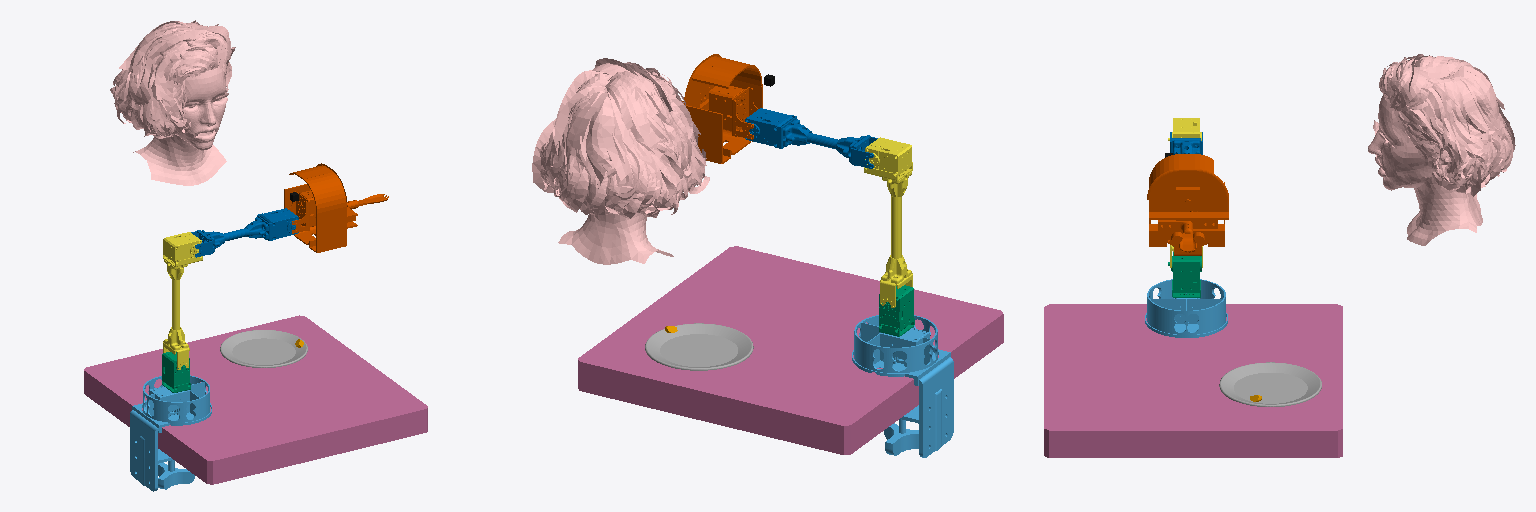
URDF robot description (feedbot):
<?xml version="1.0" ?>
<!-- =================================================================================== -->
<!-- |    This document was autogenerated by xacro from my_robot.urdf.xacro            | -->
<!-- |    EDITING THIS FILE BY HAND IS NOT RECOMMENDED                                 | -->
<!-- =================================================================================== -->
<robot name="feedbot">
  <!-- ABSOLUTE ROOT LINK (must be top-level) -->
  <link name="base_root"/>
  <!-- Fixed joint to real base -->
  <joint name="base_root_to_base" type="fixed">
    <parent link="base_root"/>
    <child link="base"/>
    <origin rpy="0 0 0" xyz="0 0 0"/>
  </joint>
  <link name="base">
    <visual>
      <geometry>
        <mesh filename="package://feedbot_description/meshes/base.stl" scale="0.01 0.01 0.01"/>
      </geometry>
    </visual>
    <collision>
      <geometry>
        <mesh filename="package://feedbot_description/meshes/base.stl" scale="0.01 0.01 0.01"/>
      </geometry>
    </collision>
    <inertial>
      <origin rpy="0 0 0" xyz="0 0 0"/>
      <mass value="1.0"/>
      <inertia ixx="0.002" ixy="0" ixz="0" iyy="0.002" iyz="0" izz="0.002"/>
    </inertial>
  </link>
  <!-- base → link1 -->
  <joint name="joint1" type="revolute">
    <parent link="base"/>
    <child link="link1"/>
    <origin rpy="0 0 0" xyz="0.0072669 0.00089679 0.152446"/>
    <!--0.009249 -0.000629 0.15276" -->
    <axis xyz="0 0 1"/>
    <!-- rotation around Z -->
    <limit effort="10.0" lower="-3.14" upper="3.14" velocity="2.0"/>
    <dynamics damping="0.01" friction="0.0"/>
  </joint>
  <!-- Joint2: link1 → link2 -->
  <joint name="joint2" type="revolute">
    <parent link="link1"/>
    <child link="link2"/>
    <origin rpy="0 0 0" xyz="0.000247 0.0211189 0.04221"/>
    <!-- 0.0000924 -0.021915 0.04024 -->
    <axis xyz="0 1 0"/>
    <!-- up-down rotation -->
    <limit effort="1.0" lower="-3.14" upper="3.14" velocity="2.0"/>
    <dynamics damping="0.01" friction="0.0"/>
  </joint>
  <!-- Joint3: link2 → link3 -->
  <joint name="joint3" type="revolute">
    <parent link="link2"/>
    <child link="link3"/>
    <origin rpy="0 0 0" xyz="0.0225822 -0.04319 0.18139"/>
    <!--0.022992 -0.000915 0.18334 -->
    <axis xyz="0 1 0"/>
    <!-- up-down rotation -->
    <limit effort="5.0" lower="-2.0944" upper="1.309" velocity="1.0"/>
    <dynamics damping="0.01" friction="0.0"/>
  </joint>
  <!-- Joint4: link3 → feeder_head -->
  <joint name="joint4" type="revolute">
    <parent link="link3"/>
    <child link="feeder_head"/>
    <origin rpy="0 0 0" xyz="0.164298 -0.00024 0.00006"/>
    <!--0.162176 0.001804 0.00004 -->
    <axis xyz="0 1 0"/>
    <!-- up-down rotation -->
    <limit effort="2.0" lower="-1.5708" upper="2.00713" velocity="1.0"/>
    <dynamics damping="0.01" friction="0.0"/>
  </joint>
  <!-- Link1 -->
  <link name="link1">
    <visual>
      <geometry>
        <mesh filename="package://feedbot_description/meshes/link1.stl" scale="0.01 0.01 0.01"/>
      </geometry>
    </visual>
    <collision>
      <geometry>
        <mesh filename="package://feedbot_description/meshes/link1.stl" scale="0.01 0.01 0.01"/>
      </geometry>
    </collision>
    <inertial>
      <mass value="0.25"/>
      <origin rpy="0 0 0" xyz="0 0 0"/>
      <inertia ixx="0.005" ixy="0" ixz="0" iyy="0.005" iyz="0" izz="0.005"/>
    </inertial>
  </link>
  <link name="link2">
    <visual>
      <geometry>
        <mesh filename="package://feedbot_description/meshes/link2.stl" scale="0.01 0.01 0.01"/>
      </geometry>
    </visual>
    <collision>
      <geometry>
        <mesh filename="package://feedbot_description/meshes/link2.stl" scale="0.01 0.01 0.01"/>
      </geometry>
    </collision>
    <inertial>
      <mass value="0.2"/>
      <inertia ixx="0.001" ixy="0" ixz="0" iyy="0.001" iyz="0" izz="0.001"/>
    </inertial>
  </link>
  <!-- Link3 -->
  <link name="link3">
    <visual>
      <origin rpy="0 0 0" xyz="0 0 0"/>
      <geometry>
        <mesh filename="package://feedbot_description/meshes/link3.stl" scale="0.01 0.01 0.01"/>
      </geometry>
    </visual>
    <collision>
      <origin rpy="0 0 0" xyz="0 0 0"/>
      <geometry>
        <mesh filename="package://feedbot_description/meshes/link3.stl" scale="0.01 0.01 0.01"/>
      </geometry>
    </collision>
    <inertial>
      <mass value="0.2"/>
      <inertia ixx="0.001" ixy="0" ixz="0" iyy="0.001" iyz="0" izz="0.001"/>
    </inertial>
  </link>
  <link name="feeder_head">
    <inertial>
      <origin rpy="0 0 0" xyz="0 0 0"/>
      <mass value="0.15"/>
      <!-- slightly heavier for stability -->
      <inertia ixx="0.001" ixy="0" ixz="0" iyy="0.001" iyz="0" izz="0.001"/>
    </inertial>
    <visual>
      <geometry>
        <mesh filename="package://feedbot_description/meshes/feeder_head.stl" scale="0.01 0.01 0.01"/>
      </geometry>
    </visual>
    <collision>
      <geometry>
        <mesh filename="package://feedbot_description/meshes/feeder_head.stl" scale="0.01 0.01 0.01"/>
      </geometry>
    </collision>
  </link>
  <link name="table_link">
    <visual>
      <geometry>
        <mesh filename="package://feedbot_description/meshes/table.stl" scale="0.01 0.01 0.01"/>
      </geometry>
    </visual>
    <collision>
      <geometry>
        <mesh filename="package://feedbot_description/meshes/table.stl" scale="0.01 0.01 0.01"/>
      </geometry>
    </collision>
    <inertial>
      <mass value="5.0"/>
      <inertia ixx="0.1" ixy="0" ixz="0" iyy="0.1" iyz="0" izz="0.1"/>
    </inertial>
  </link>
  <joint name="table_to_world" type="fixed">
    <parent link="base"/>
    <child link="table_link"/>
    <origin rpy="0 0 0" xyz="-0.0007485 0.00018135 0.01118"/>
  </joint>
  <link name="plate_link">
    <visual>
      <geometry>
        <mesh filename="package://feedbot_description/meshes/plate.stl" scale="0.01 0.01 0.01"/>
      </geometry>
    </visual>
    <collision>
      <geometry>
        <mesh filename="package://feedbot_description/meshes/plate.stl" scale="0.01 0.01 0.01"/>
      </geometry>
    </collision>
    <inertial>
      <mass value="0.1"/>
      <inertia ixx="0.001" ixy="0" ixz="0" iyy="0.001" iyz="0" izz="0.001"/>
    </inertial>
  </link>
  <joint name="plate_to_table" type="fixed">
    <parent link="table_link"/>
    <child link="plate_link"/>
    <origin rpy="0 0 0" xyz="0.05 0.00 0.0000"/>
  </joint>
  <link name="apple_link">
    <visual>
      <geometry>
        <mesh filename="package://feedbot_description/meshes/apple.stl" scale="0.01 0.01 0.01"/>
      </geometry>
    </visual>
    <collision>
      <geometry>
        <mesh filename="package://feedbot_description/meshes/apple.stl" scale="0.01 0.01 0.01"/>
      </geometry>
    </collision>
    <inertial>
      <mass value="0.02"/>
      <inertia ixx="0.00001" ixy="0" ixz="0" iyy="0.00001" iyz="0" izz="0.00001"/>
    </inertial>
  </link>
  <joint name="apple_to_plate" type="fixed">
    <parent link="plate_link"/>
    <child link="apple_link"/>
    <origin xyz="0.05 0 0.0010"/>
  </joint>
  <link name="strawberry_link">
    <visual>
      <geometry>
        <mesh filename="package://feedbot_description/meshes/strawberry.stl" scale="0.01 0.01 0.01"/>
      </geometry>
    </visual>
    <collision>
      <geometry>
        <mesh filename="package://feedbot_description/meshes/strawberry.stl" scale="0.01 0.01 0.01"/>
      </geometry>
    </collision>
    <inertial>
      <mass value="0.015"/>
      <inertia ixx="0.00001" ixy="0" ixz="0" iyy="0.00001" iyz="0" izz="0.00001"/>
    </inertial>
  </link>
  <joint name="strawberry_to_plate" type="fixed">
    <parent link="plate_link"/>
    <child link="strawberry_link"/>
    <origin xyz="-0.03 0.02 0.0010"/>
  </joint>
  <!-- MOUTH OPEN MODEL (only one copy!) -->
  <link name="mouth_open_link">
    <visual>
      <geometry>
        <mesh filename="package://feedbot_description/meshes/mouth_open.stl" scale="0.01 0.01 0.01"/>
      </geometry>
      <material name="mouth_color">
        <color rgba="1 0.8 0.8 1"/>
      </material>
    </visual>
    <collision>
      <geometry>
        <mesh filename="package://feedbot_description/meshes/mouth_open.stl" scale="0.01 0.01 0.01"/>
      </geometry>
    </collision>
    <inertial>
      <mass value="0.1"/>
      <origin xyz="0 0 0"/>
      <inertia ixx="0.001" ixy="0" ixz="0" iyy="0.001" iyz="0" izz="0.001"/>
    </inertial>
  </link>
  <joint name="mouth_open_to_world" type="fixed">
    <parent link="base"/>
    <child link="mouth_open_link"/>
    <origin rpy="0 0 0" xyz="0.160 0.000 0.140"/>
  </joint>
  <transmission name="trans_joint1">
    <type>transmission_interface/SimpleTransmission</type>
    <joint name="joint1">
      <hardwareInterface>hardware_interface/EffortJointInterface</hardwareInterface>
    </joint>
    <actuator name="motor_joint1">
      <hardwareInterface>hardware_interface/EffortJointInterface</hardwareInterface>
      <mechanicalReduction>1</mechanicalReduction>
    </actuator>
  </transmission>
  <transmission name="trans_joint2">
    <type>transmission_interface/SimpleTransmission</type>
    <joint name="joint2">
      <hardwareInterface>hardware_interface/EffortJointInterface</hardwareInterface>
    </joint>
    <actuator name="motor_joint2">
      <hardwareInterface>hardware_interface/EffortJointInterface</hardwareInterface>
      <mechanicalReduction>1</mechanicalReduction>
    </actuator>
  </transmission>
  <transmission name="trans_joint3">
    <type>transmission_interface/SimpleTransmission</type>
    <joint name="joint3">
      <hardwareInterface>hardware_interface/EffortJointInterface</hardwareInterface>
    </joint>
    <actuator name="motor_joint3">
      <hardwareInterface>hardware_interface/EffortJointInterface</hardwareInterface>
      <mechanicalReduction>1</mechanicalReduction>
    </actuator>
  </transmission>
  <transmission name="trans_joint4">
    <type>transmission_interface/SimpleTransmission</type>
    <joint name="joint4">
      <hardwareInterface>hardware_interface/EffortJointInterface</hardwareInterface>
    </joint>
    <actuator name="motor_joint4">
      <hardwareInterface>hardware_interface/EffortJointInterface</hardwareInterface>
      <mechanicalReduction>1</mechanicalReduction>
    </actuator>
  </transmission>
  <!-- Attach camera to feeder_head -->
  <joint name="camera_joint" type="fixed">
    <parent link="feeder_head"/>
    <child link="camera_link"/>
    <origin rpy="0 0 0" xyz="0 0 0.05"/>
  </joint>
  <link name="camera_link">
    <visual>
      <geometry>
        <box size="0.01 0.01 0.01"/>
      </geometry>
      <material name="camera_material">
        <color rgba="0.1 0.1 0.1 1.0"/>
      </material>
    </visual>
  </link>
  <gazebo reference="camera_link">
    <sensor name="camera_sensor" type="camera">
      <always_on>true</always_on>
      <update_rate>30</update_rate>
      <camera>
        <horizontal_fov>1.3962634</horizontal_fov>
        <image>
          <width>640</width>
          <height>480</height>
          <format>R8G8B8</format>
        </image>
        <clip>
          <near>0.1</near>
          <far>100</far>
        </clip>
      </camera>
      <plugin filename="libgazebo_ros_camera.so" name="gazebo_ros_camera">
        <ros>
          <namespace>/camera</namespace>
        </ros>
        <camera_name>camera</camera_name>
        <frame_name>camera_link</frame_name>
      </plugin>
    </sensor>
  </gazebo>
  <ros2_control name="FeedbotSystem" type="system">
    <hardware>
      <plugin>gazebo_ros2_control/GazeboSystem</plugin>
    </hardware>
    <joint name="joint1">
      <command_interface name="effort"/>
      <state_interface name="position"/>
      <state_interface name="velocity"/>
    </joint>
    <joint name="joint2">
      <command_interface name="effort"/>
      <state_interface name="position"/>
      <state_interface name="velocity"/>
    </joint>
    <joint name="joint3">
      <command_interface name="effort"/>
      <state_interface name="position"/>
      <state_interface name="velocity"/>
    </joint>
    <joint name="joint4">
      <command_interface name="effort"/>
      <state_interface name="position"/>
      <state_interface name="velocity"/>
    </joint>
  </ros2_control>
  <gazebo>
    <plugin filename="libgazebo_ros2_control.so" name="gazebo_ros2_control">
      <parameters>/home/dell/ros2_feedbot_ws/install/feedbot_description/share/feedbot_description/config/controllers.yaml</parameters>
    </plugin>
  </gazebo>
</robot>

--- Render facts (derived) ---
The picture shows the robot from 3 angles, left to right: view 1: azimuth 30°, elevation 25°; view 2: azimuth 150°, elevation 25°; view 3: azimuth 270°, elevation 25°; orthographic projection.
Robot: feedbot — 12 links, 11 joints (4 revolute, 7 fixed); root link base_root; default pose: all joints at 0.
Links seen in each view (by area): view 1: table_link, mouth_open_link, base, feeder_head, plate_link, link2, link3, link1; view 2: table_link, mouth_open_link, base, feeder_head, plate_link, link2, link3, link1; view 3: table_link, mouth_open_link, feeder_head, plate_link, base, link1, link2, link3.
Boxes of the visible links, left/top/right/bottom form: table_link: left=84, top=315, right=427, bottom=484; mouth_open_link: left=110, top=20, right=235, bottom=185; base: left=130, top=375, right=211, bottom=491; feeder_head: left=284, top=163, right=388, bottom=252; plate_link: left=220, top=330, right=307, bottom=367; link2: left=163, top=232, right=202, bottom=369; link3: left=191, top=208, right=298, bottom=257; link1: left=162, top=352, right=190, bottom=392; table_link: left=578, top=246, right=1003, bottom=454; mouth_open_link: left=532, top=58, right=709, bottom=264; base: left=852, top=315, right=953, bottom=457; feeder_head: left=682, top=54, right=762, bottom=163; plate_link: left=645, top=323, right=753, bottom=370; link2: left=864, top=137, right=912, bottom=307; link3: left=745, top=108, right=877, bottom=168; link1: left=879, top=285, right=914, bottom=336; table_link: left=1044, top=304, right=1342, bottom=457; mouth_open_link: left=1368, top=54, right=1515, bottom=245; feeder_head: left=1147, top=154, right=1228, bottom=255; plate_link: left=1219, top=362, right=1321, bottom=406; base: left=1145, top=279, right=1227, bottom=337; link1: left=1168, top=252, right=1201, bottom=297; link2: left=1168, top=118, right=1202, bottom=267; link3: left=1170, top=132, right=1202, bottom=154.
Size in the robot's own frame: 0.4181 by 0.5915 by 0.5701 metres.
Meshes: 10 distinct files referenced, 9 mesh visuals loaded (9 binary STL); not drawn: 1 (reference not matched to a file when rendering).
